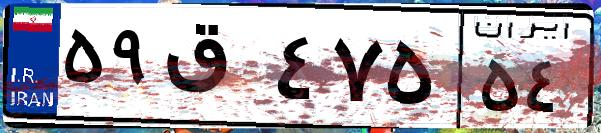4: (270, 28, 330, 110), (525, 38, 570, 115)
5: (385, 28, 445, 110), (57, 26, 110, 100), (475, 38, 525, 113)
7: (330, 28, 385, 110)
9: (110, 28, 158, 98)
ق: (158, 20, 270, 120)
